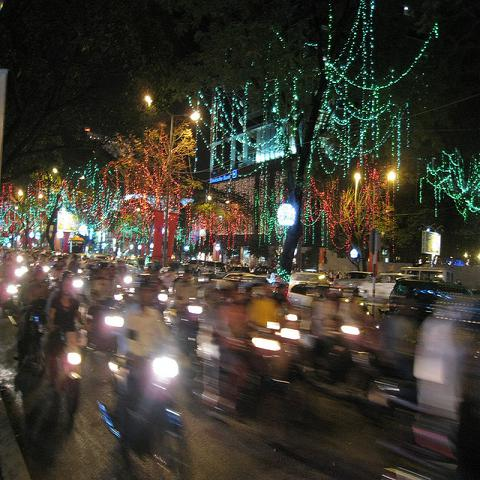car: (360, 272, 416, 304), (329, 271, 371, 298), (288, 282, 326, 306), (203, 261, 226, 274), (168, 263, 185, 277), (226, 266, 251, 273), (223, 274, 250, 280)
motorcycle: (98, 351, 191, 479), (48, 325, 95, 432), (236, 335, 290, 423), (326, 314, 366, 384), (170, 301, 211, 361), (91, 310, 126, 354), (1, 268, 24, 312)
